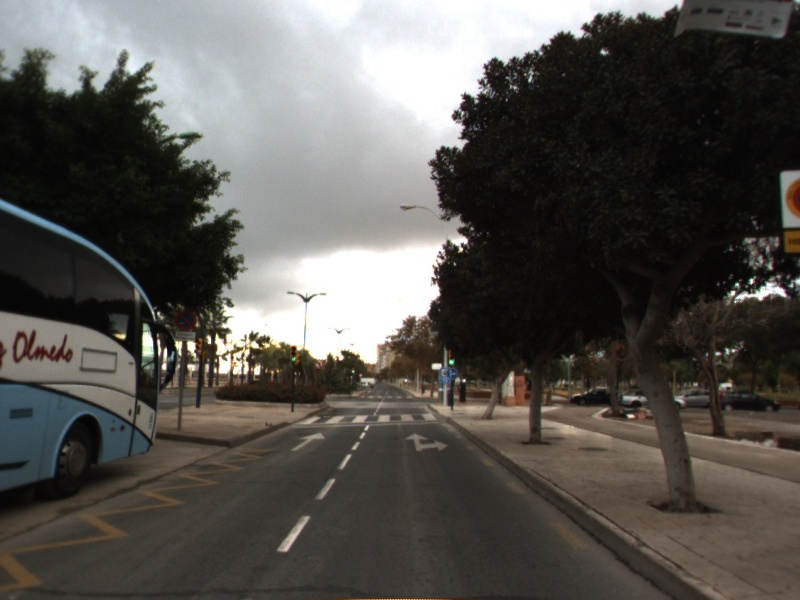STRAIGHT: (289, 431, 327, 453)
STRAIGHT_RIGHT: (403, 431, 451, 453)
